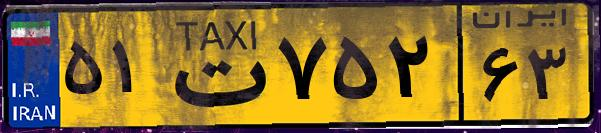1: (110, 28, 158, 98)
2: (385, 28, 445, 110)
3: (525, 38, 570, 115)
5: (330, 28, 385, 110), (57, 26, 110, 100)
6: (475, 38, 525, 113)
7: (270, 28, 330, 110)
ت: (158, 12, 270, 120)
